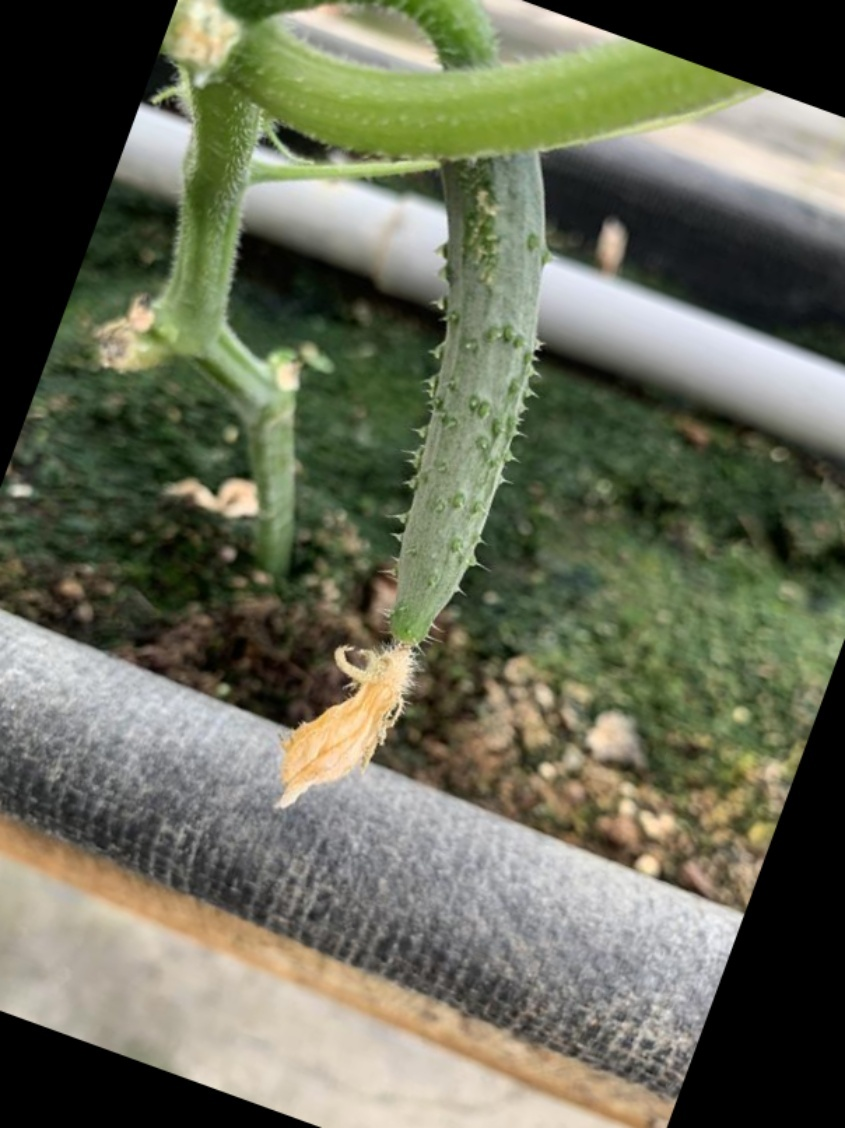bear: (257, 128, 600, 839)
